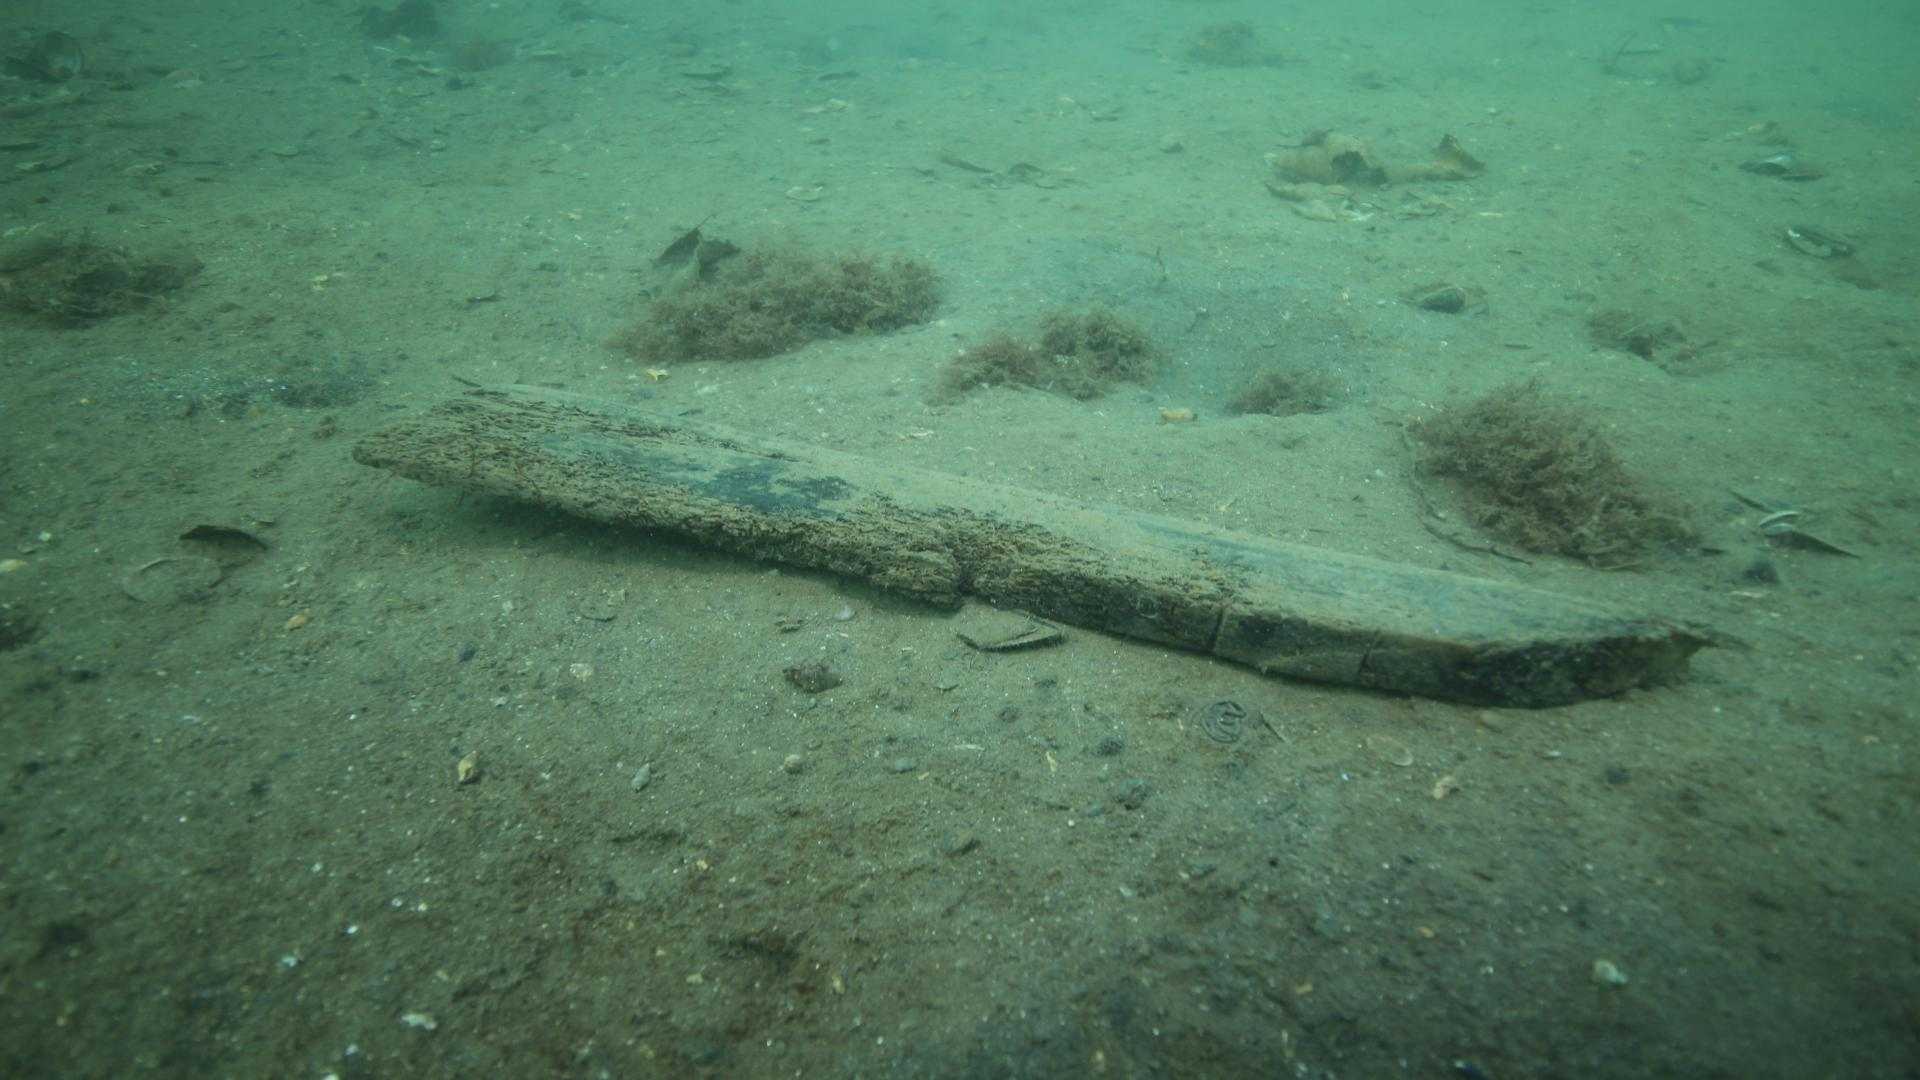wood: (351, 378, 1735, 711)
